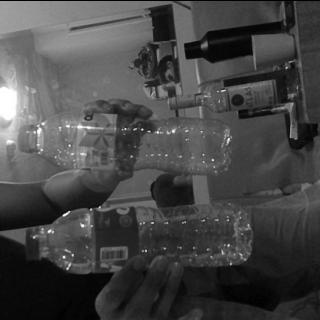plastic_bottles: (22, 198, 254, 272), (19, 110, 232, 176)
